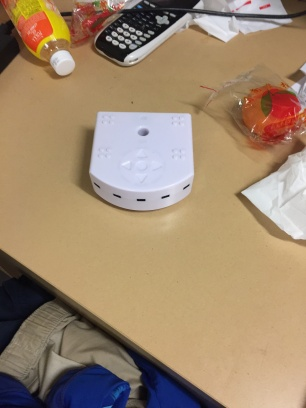thymio: (79, 103, 203, 220)
